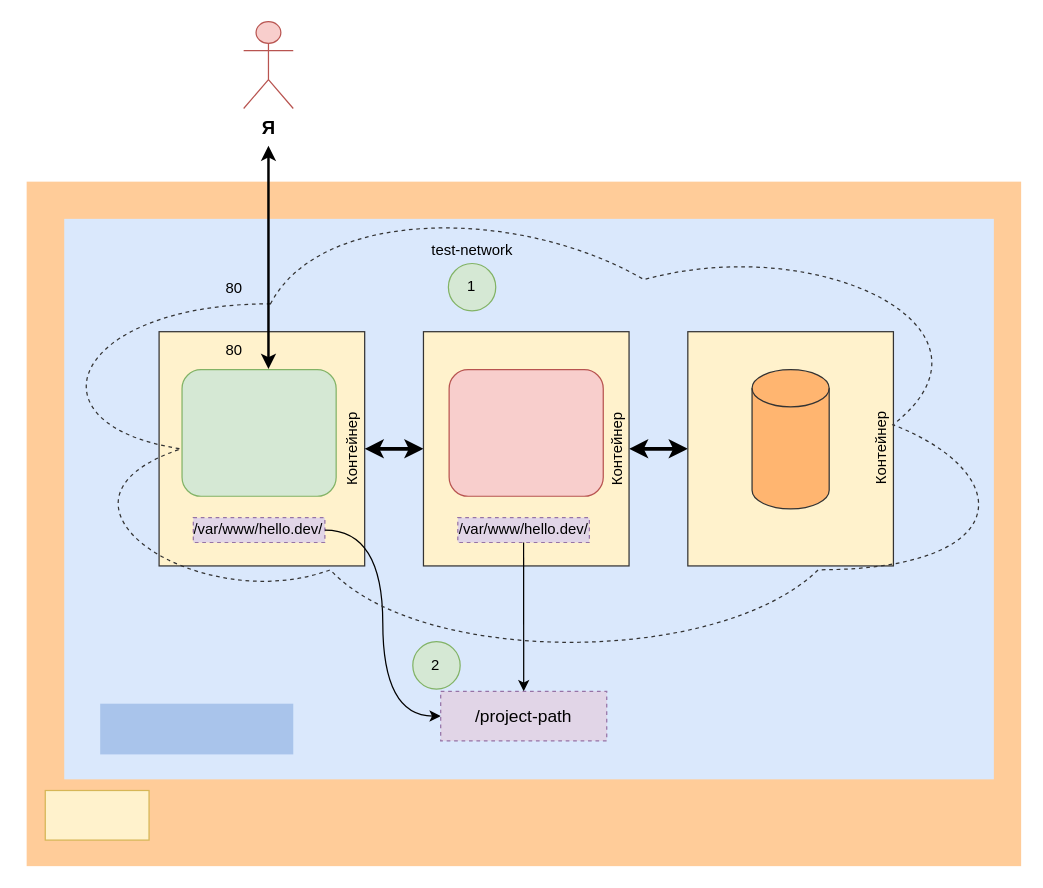
The diagram is 1043 pixels wide and 888 high, and some of its shapes have lost their labels. The box of each missing label's shape, as (x1, y1, x2, y2) in pixels:
NGINX: (181, 368, 336, 496)
PHP-FPM: (448, 368, 603, 496)
postgres: (751, 368, 829, 509)
Операционная система: (100, 703, 293, 754)
Сервер: (44, 789, 149, 840)
